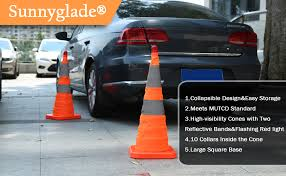car: (55, 1, 259, 117), (35, 40, 72, 78), (1, 37, 21, 78)
cone: (129, 48, 180, 159), (44, 51, 79, 124)
